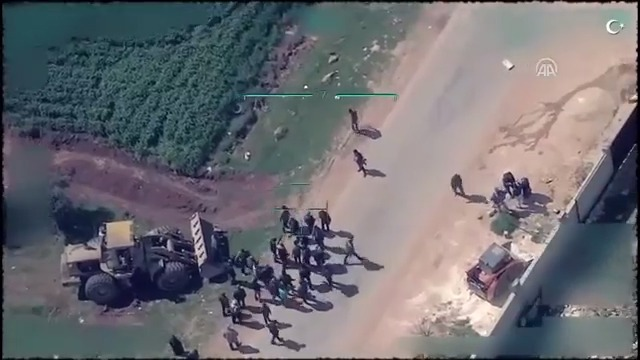arac: (55, 208, 225, 310), (464, 234, 536, 309)
insan: (338, 231, 367, 266), (341, 102, 367, 136), (349, 144, 370, 182), (445, 174, 470, 200), (275, 237, 293, 272), (267, 317, 287, 348), (221, 323, 243, 350), (318, 204, 335, 238), (232, 282, 250, 314), (216, 291, 232, 317)
